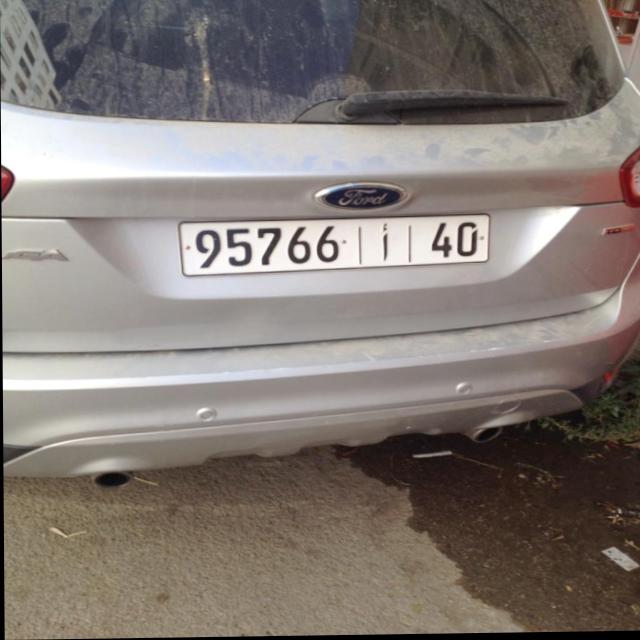License-Plate: (180, 216, 490, 277)
